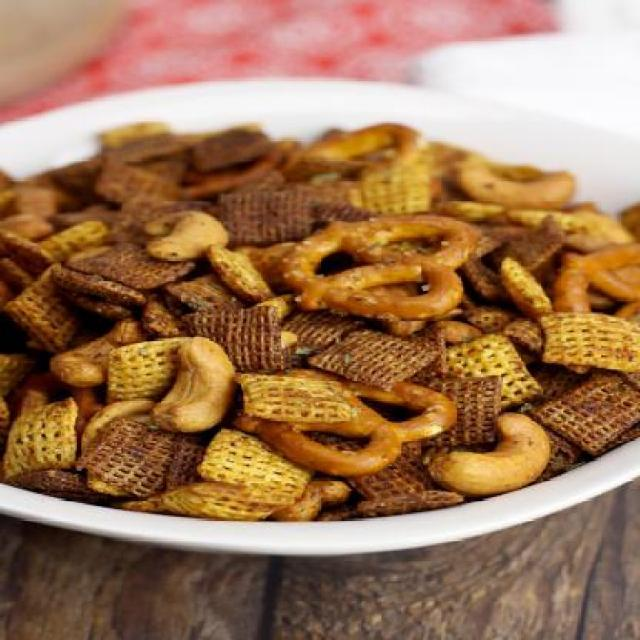Salatini packaged: (16, 124, 610, 514)
